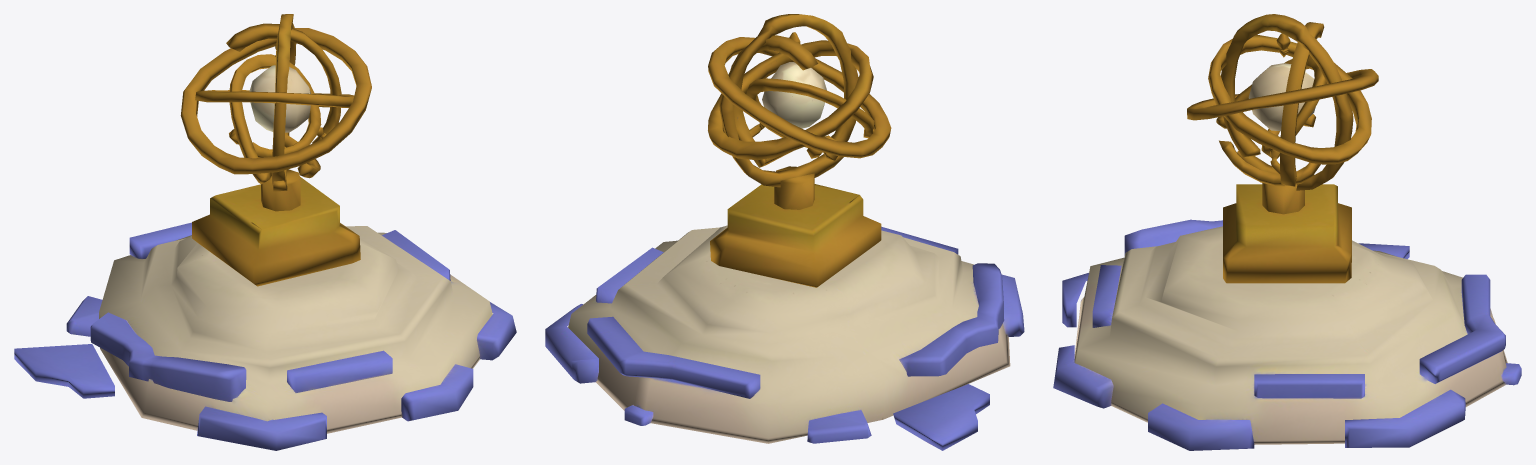
Rendered from academy-relic-dais.glb.
3 renders of one model, left to right at view 1: azimuth 30°, elevation 25°; view 2: azimuth 150°, elevation 25°; view 3: azimuth 270°, elevation 25°, orthographic. The views are drawn at different scales.
Visible parts, largest first — view 1: tripo_node_55161137-9e68-418a-8976-403147482234; view 2: tripo_node_55161137-9e68-418a-8976-403147482234; view 3: tripo_node_55161137-9e68-418a-8976-403147482234.
Part boxes in pixels (x1,y1,x2,y2): tripo_node_55161137-9e68-418a-8976-403147482234: (14,14,516,450); tripo_node_55161137-9e68-418a-8976-403147482234: (545,14,1024,450); tripo_node_55161137-9e68-418a-8976-403147482234: (1053,14,1521,450).
Size of the model in its own units: 3.04 by 2.4 by 2.94.
Materials: 1 (1 with a texture image).
